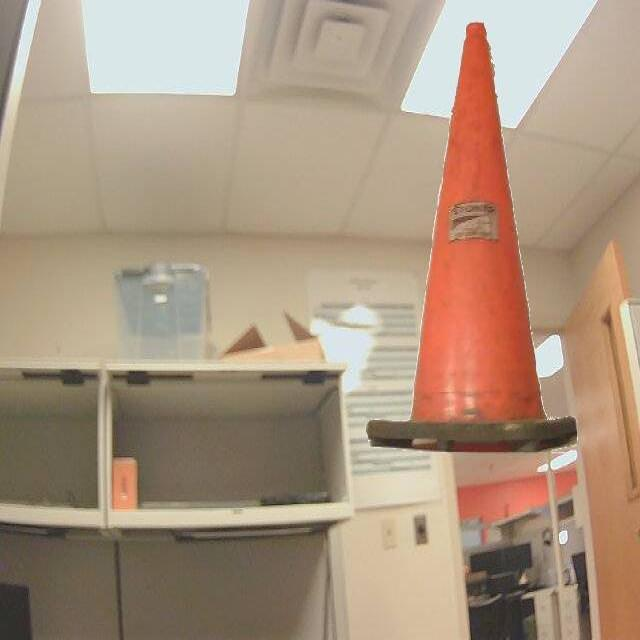traffic cone: (354, 12, 585, 463)
